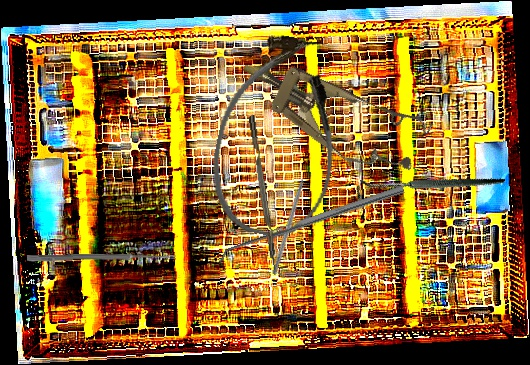Cannula: (200, 26, 357, 246)
Chopper: (248, 113, 286, 281)
Hook Surgical: (352, 121, 506, 255), (271, 164, 311, 276)
Spatula Surgical: (215, 185, 408, 264)
Speculum: (227, 33, 435, 189)
Surgical Spoon: (26, 252, 177, 263)
